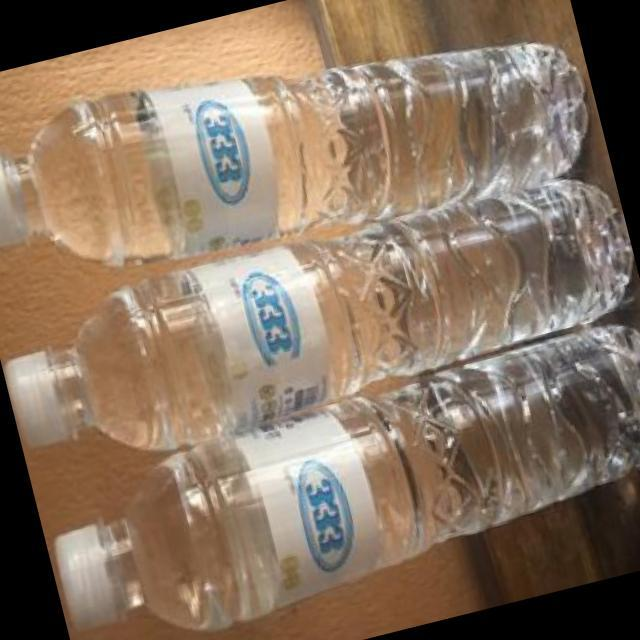good: (1, 153, 623, 477), (1, 2, 591, 330), (35, 333, 640, 640)
